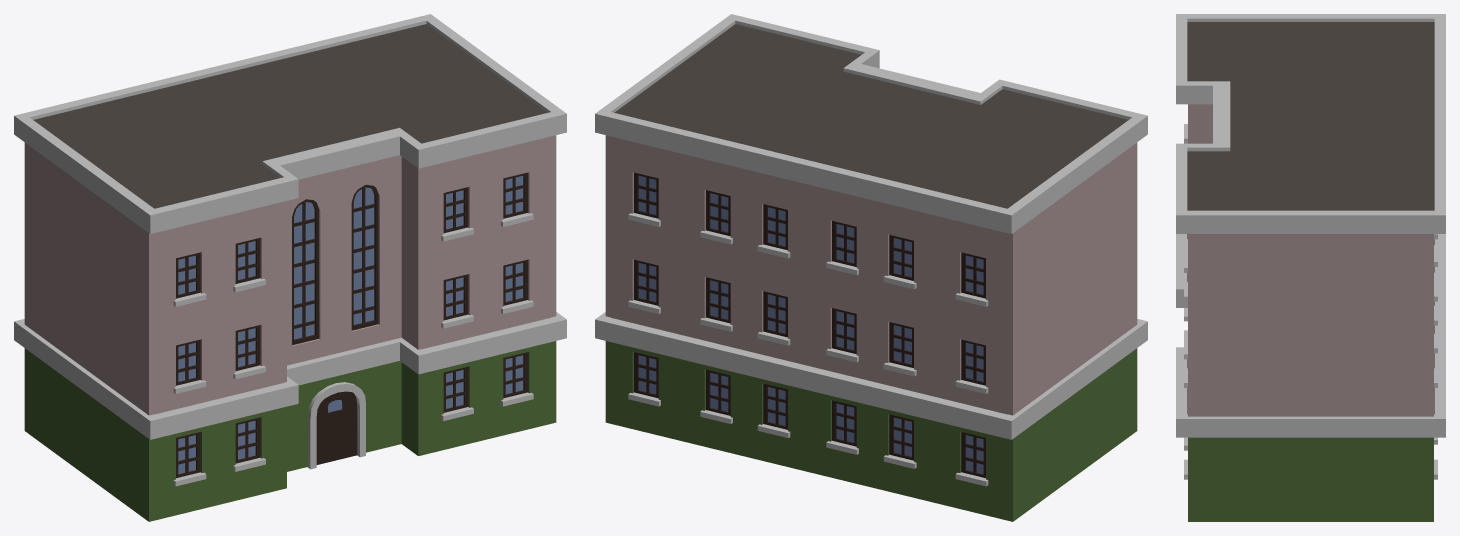
The model's file is GovernmentBuilding_04.fbx.
The picture shows the model from 3 angles, left to right: view 1: azimuth 30°, elevation 25°; view 2: azimuth 150°, elevation 25°; view 3: azimuth 270°, elevation 25°; orthographic projection.
Parts seen in each view (by area): view 1: GovernmentBuilding_04; view 2: GovernmentBuilding_04; view 3: GovernmentBuilding_04.
Boxes of the visible parts, <box> form: GovernmentBuilding_04: <box>14,14,566,521</box>; GovernmentBuilding_04: <box>595,14,1147,521</box>; GovernmentBuilding_04: <box>1176,14,1445,521</box>.
Size of the model in its own units: 17.34 by 12.44 by 9.82.
